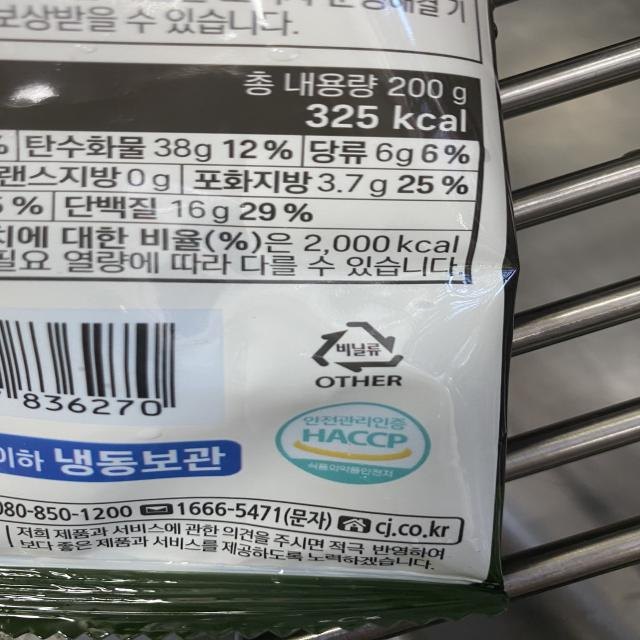Vinyl: (305, 313, 409, 374)
